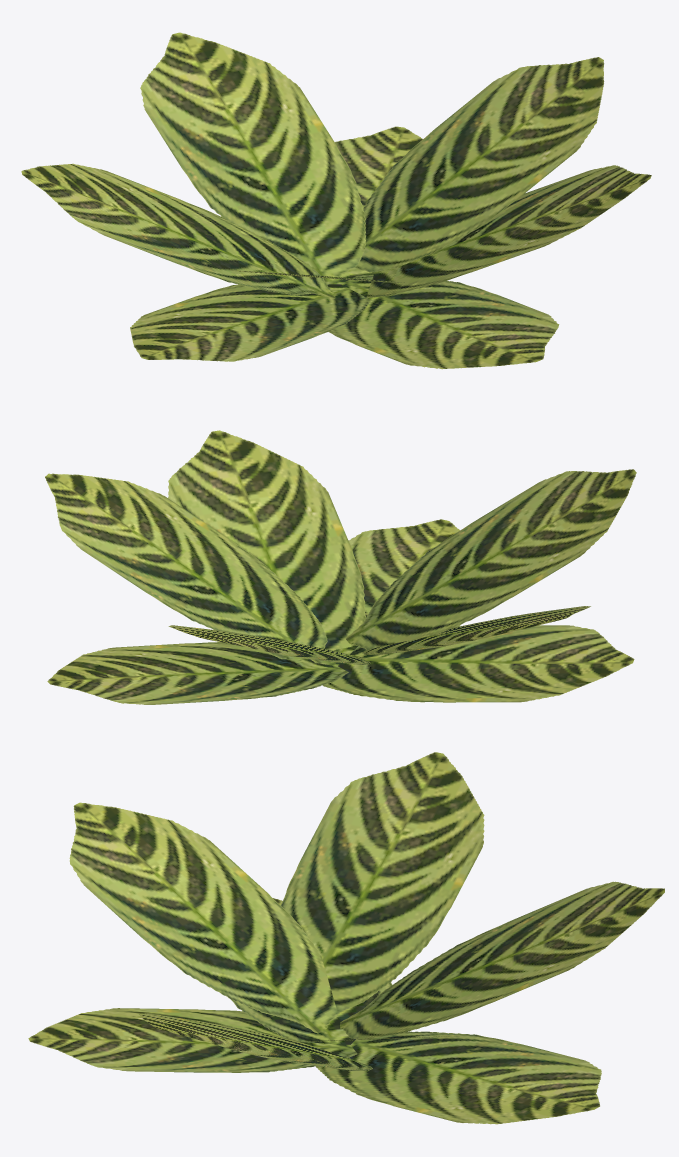
The model's file is plant_tropic_large_1.glb.
3 renders of one model, top to bottom at view 1: azimuth 30°, elevation 25°; view 2: azimuth 150°, elevation 25°; view 3: azimuth 270°, elevation 25°, orthographic. The views are drawn at different scales.
Visible parts, largest first — view 1: plant_tropic_large_1; view 2: plant_tropic_large_1; view 3: plant_tropic_large_1.
Boxes of the visible parts, x1,y1,x2,y2 form: plant_tropic_large_1: [21, 32, 651, 369]; plant_tropic_large_1: [45, 430, 636, 704]; plant_tropic_large_1: [28, 752, 664, 1124].
Size of the model in its own units: 2.33 by 0.5935 by 2.14.
1 material, 1 textured.
